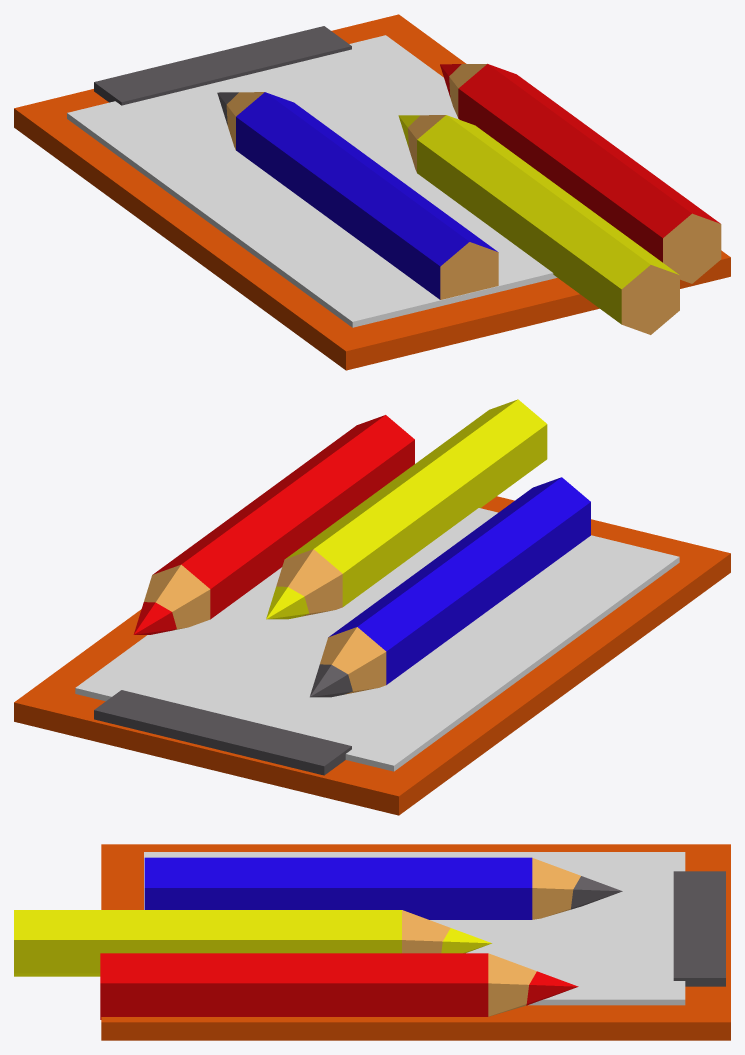
Rendered from paper_and_pencil.glb.
3 views of the same model, one above another, from view 1: azimuth 30°, elevation 25°; view 2: azimuth 150°, elevation 25°; view 3: azimuth 270°, elevation 25° (orthographic). The views are drawn at different scales.
Visible parts, largest first — view 1: NOTEPAD, Cylinder.008, Cylinder.004, Cylinder.007; view 2: NOTEPAD, Cylinder.008, Cylinder.004, Cylinder.007; view 3: NOTEPAD, Cylinder.007, Cylinder.004, Cylinder.008.
Boxes of the visible parts, left/top/right/bottom form: NOTEPAD: left=14, top=14, right=730, bottom=370; Cylinder.008: left=398, top=115, right=679, bottom=334; Cylinder.004: left=217, top=92, right=498, bottom=299; Cylinder.007: left=440, top=63, right=721, bottom=283; NOTEPAD: left=14, top=496, right=730, bottom=815; Cylinder.008: left=266, top=399, right=547, bottom=619; Cylinder.004: left=310, top=477, right=590, bottom=697; Cylinder.007: left=133, top=415, right=414, bottom=634; NOTEPAD: left=101, top=844, right=730, bottom=1040; Cylinder.007: left=100, top=953, right=578, bottom=1019; Cylinder.004: left=144, top=857, right=622, bottom=919; Cylinder.008: left=14, top=910, right=491, bottom=976.
Bounding box in the file's own units: 1.29 × 0.2446 × 2.19.
